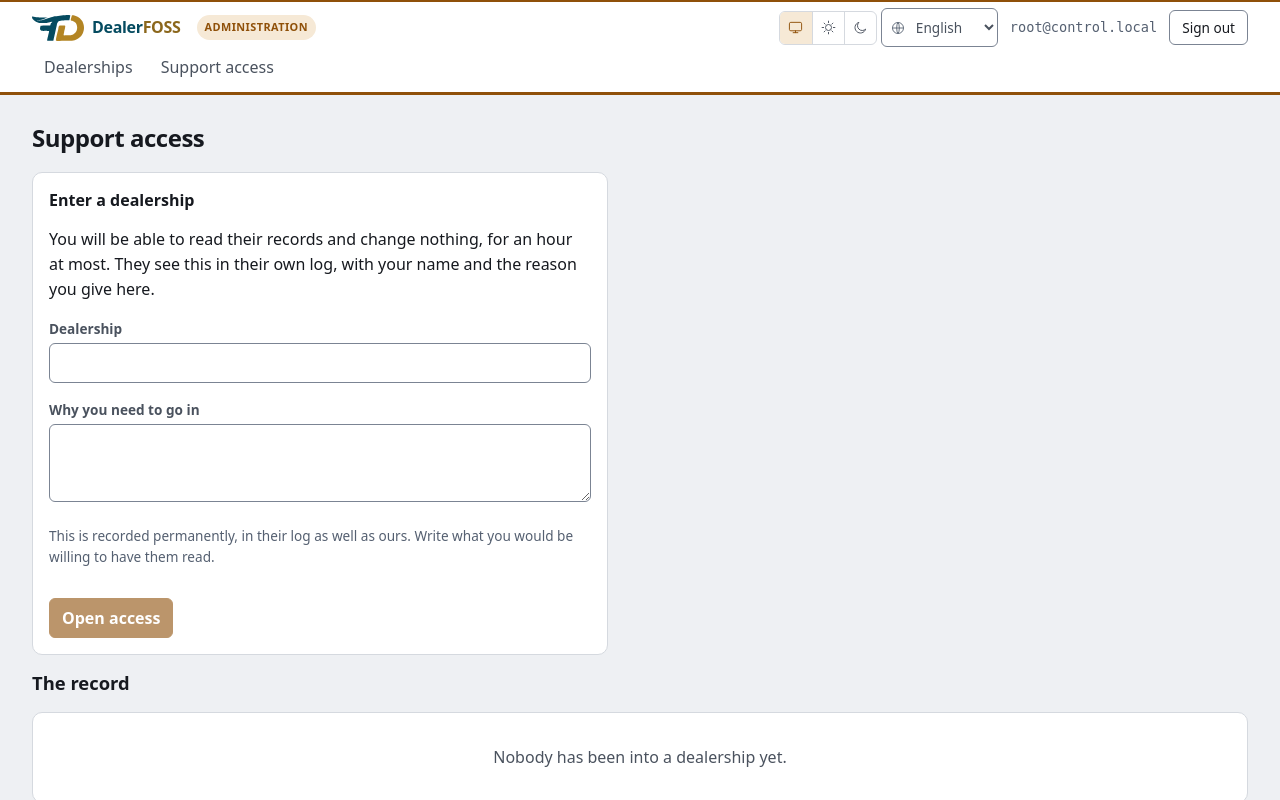
Test case: the administration console › will not open a support visit without a written reason
Expected: the button "Open access" is disabled, [49,598,174,638]
Type "northgroup" into the field labelled "Dealership".
click(320, 363); type("northgroup")  # box [49,343,591,383]
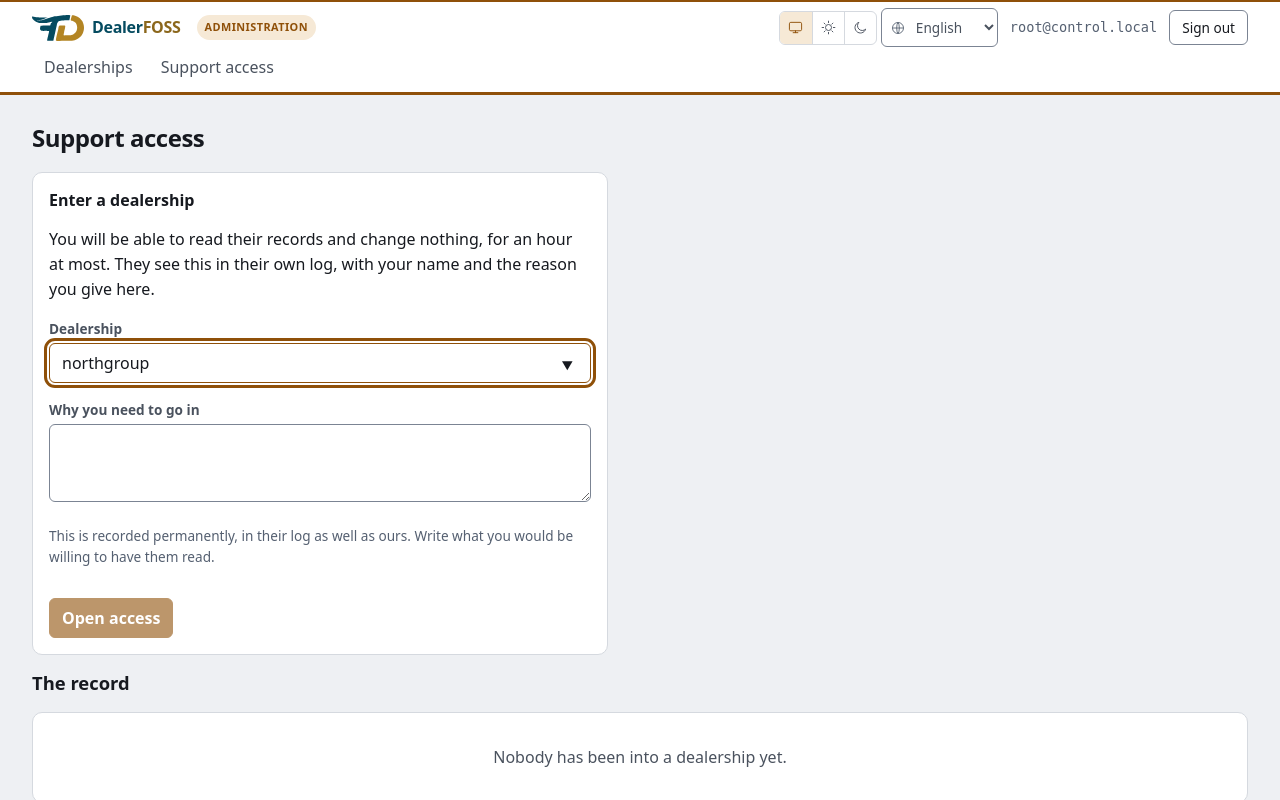
Expected: the button "Open access" is disabled, [49,598,174,638]
Type "Ticket 4412." into the text box labelled "Why you need to go in".
click(320, 463); type("Ticket 4412.")  # box [49,424,591,502]
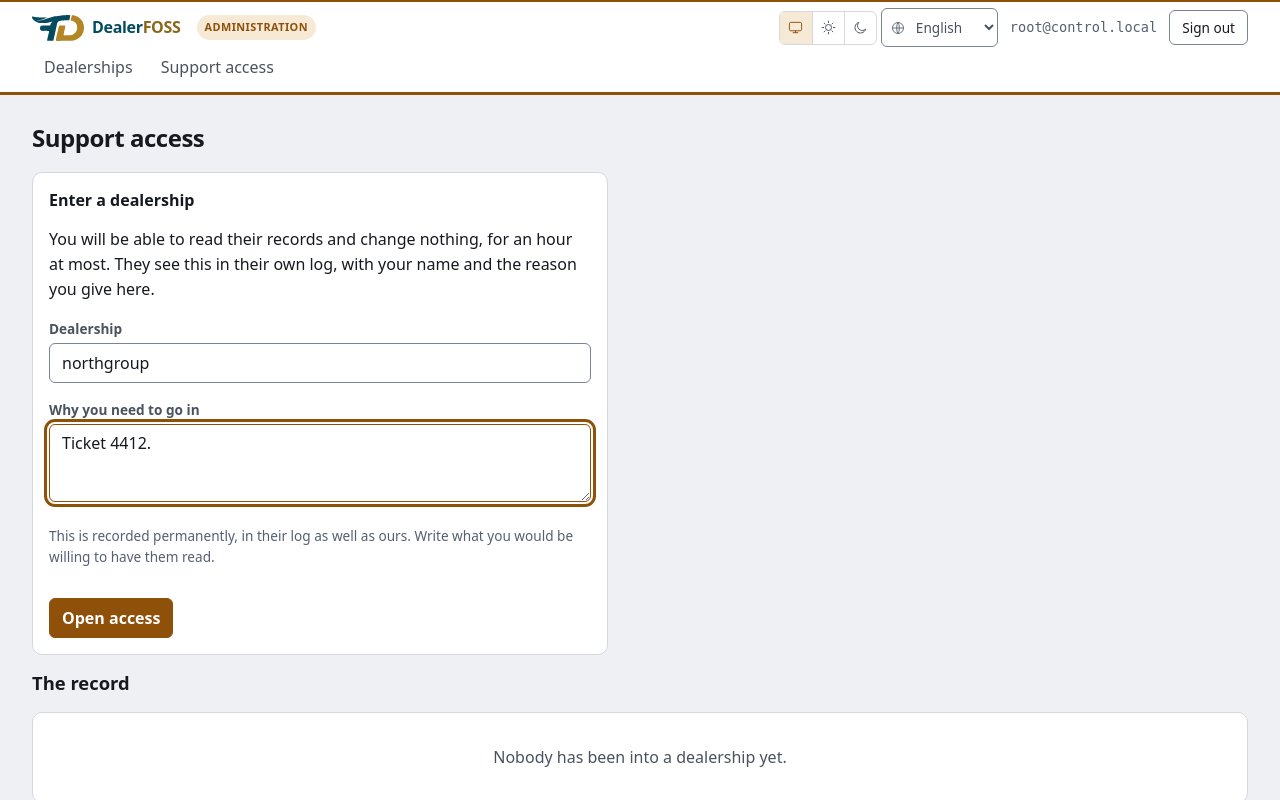
Now the button "Open access" is enabled, box [49,598,174,638]
